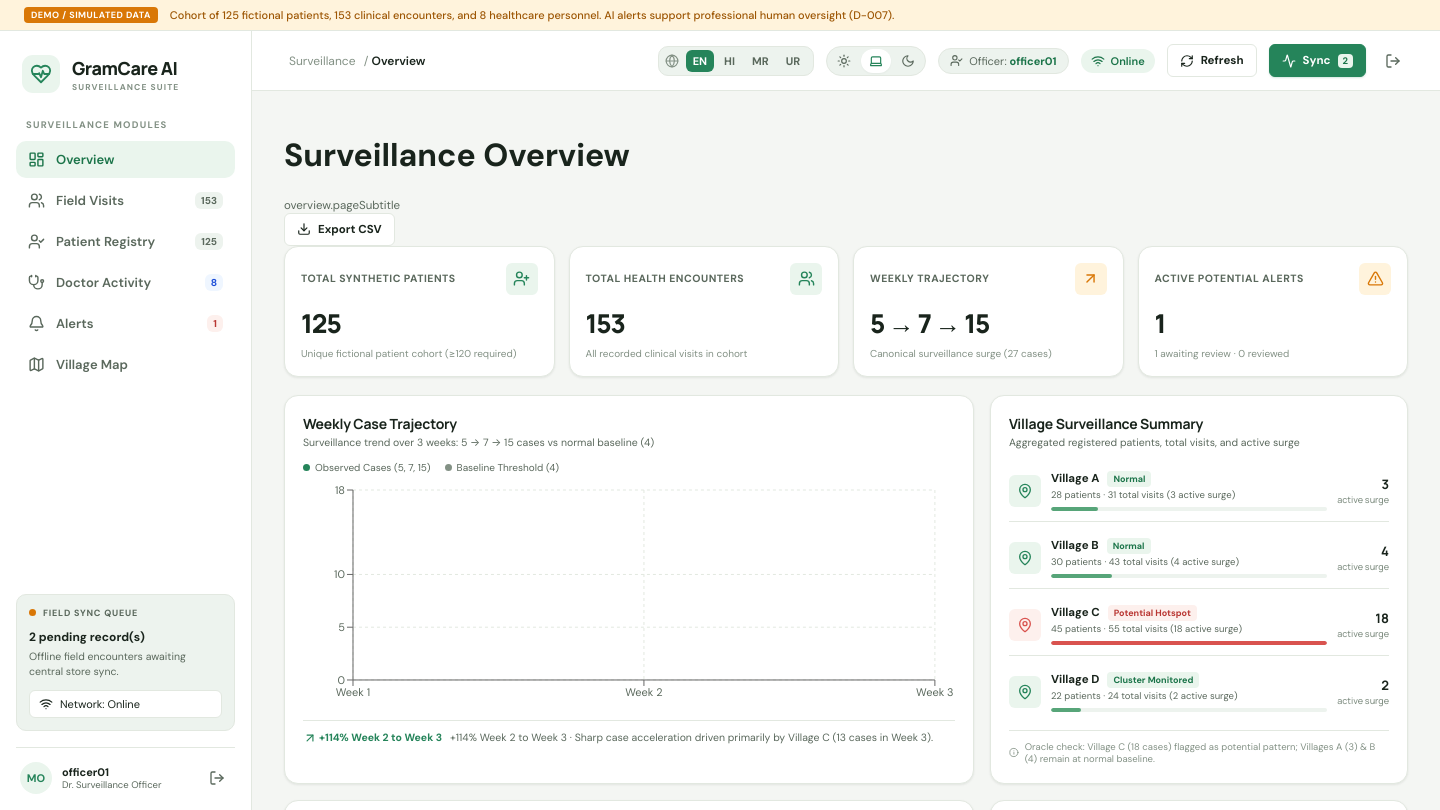
it: GramCare AI Dashboard MVP — 100+ Synthetic Patients & Authentication Verification › Patient Registry & Multi-Scope Filtering › renders the dedicated Patient Registry tab displaying 125 fictional records
Click the button with test id "nav-patients". click: [126, 242]
box: x1=16 y1=223 x2=235 y2=260
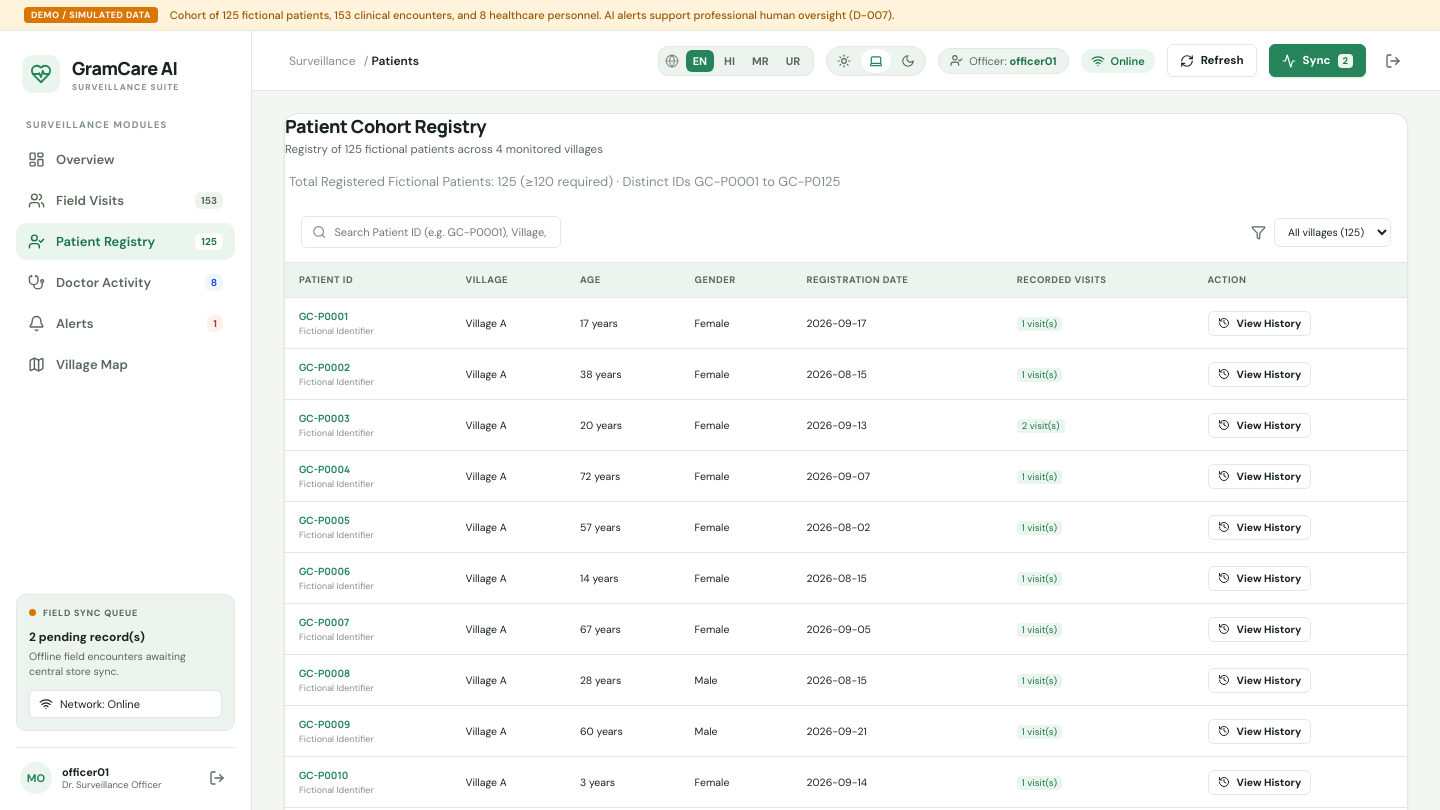
Expected: the text "Total Registered Fictional Patients: 125 (≥120 required)" is shown, x1=289 y1=173 x2=613 y2=190
Expected: the row with test id "patient-row-GC-P0001" is shown, x1=285 y1=298 x2=1407 y2=348
